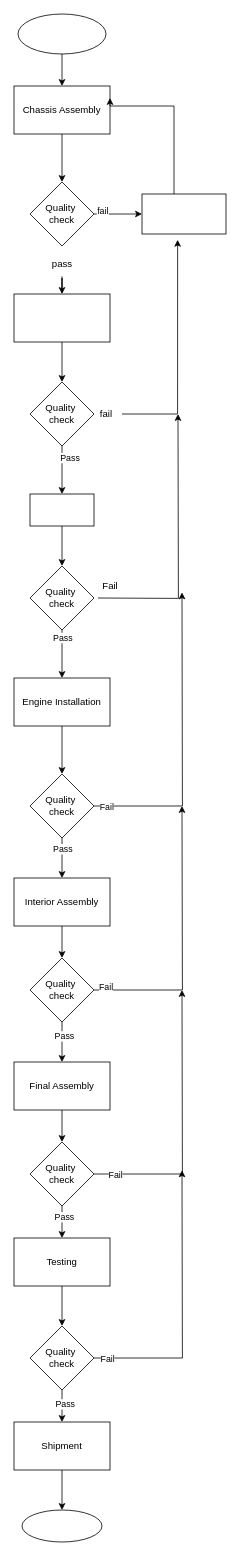
This 240x1556 diagram has some shape labels left out. Each missing label, with the box of its shape:
Body Assembly: (13, 293, 110, 342)
End: (21, 1509, 102, 1542)
Paint: (29, 493, 94, 526)
Repair: (141, 193, 226, 234)
Start: (17, 13, 106, 54)
